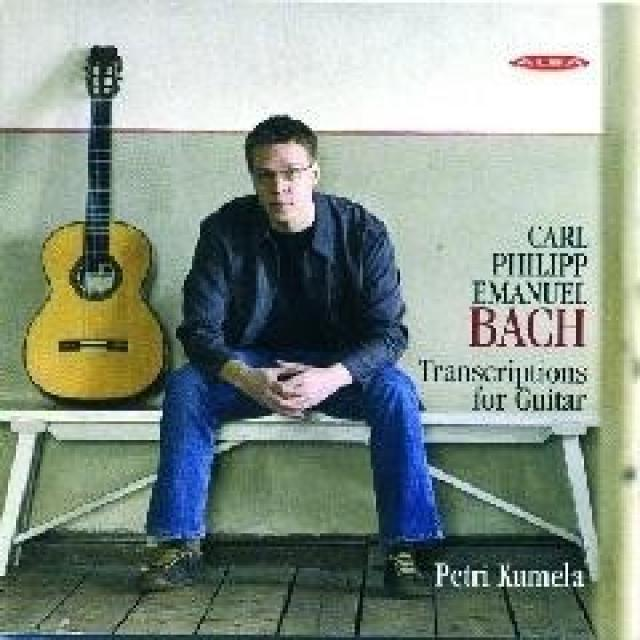guitar: (21, 43, 170, 404)
